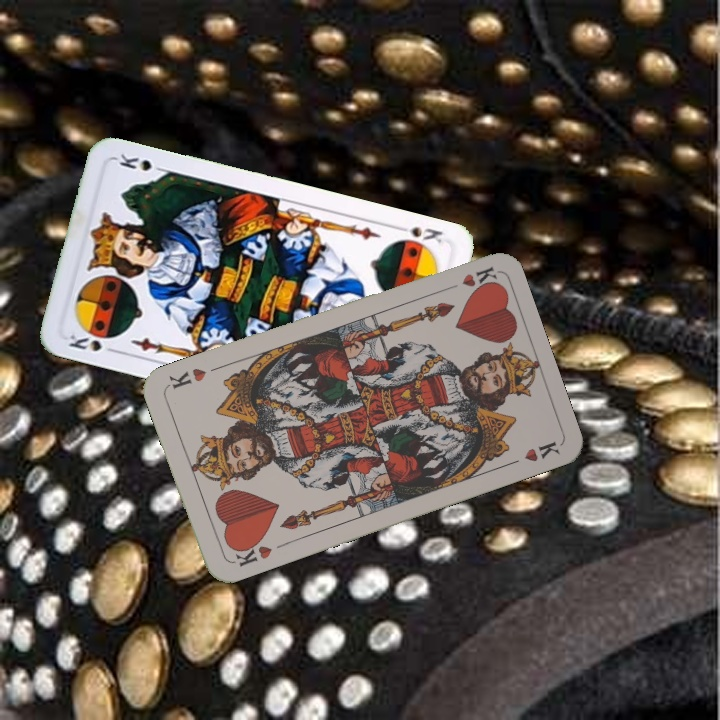HK: (439, 262, 499, 294), (229, 535, 275, 569)
SK: (65, 330, 121, 356), (391, 222, 446, 246)
